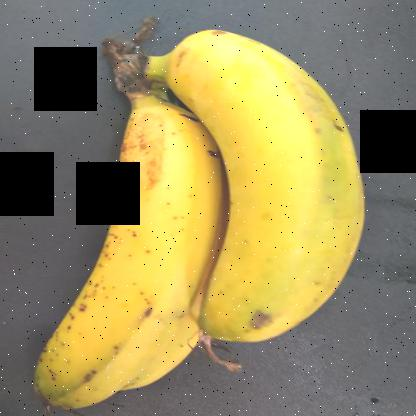freshripe: (175, 22, 397, 358)
ripe: (18, 88, 252, 415)
